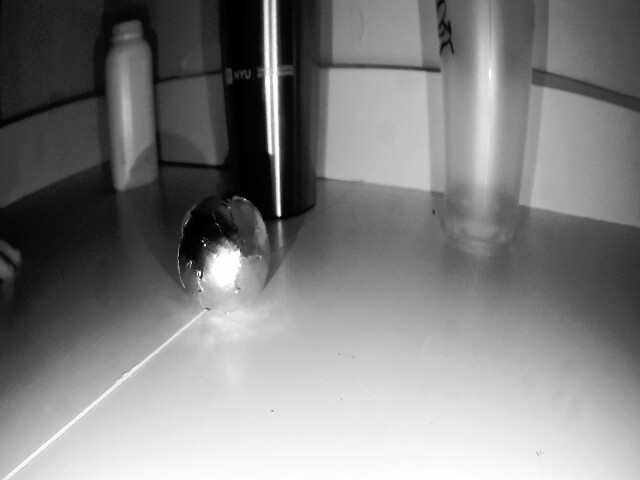black: (176, 192, 270, 316)
